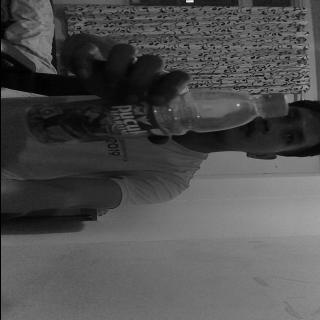plastic_bottles: (19, 87, 290, 147)
